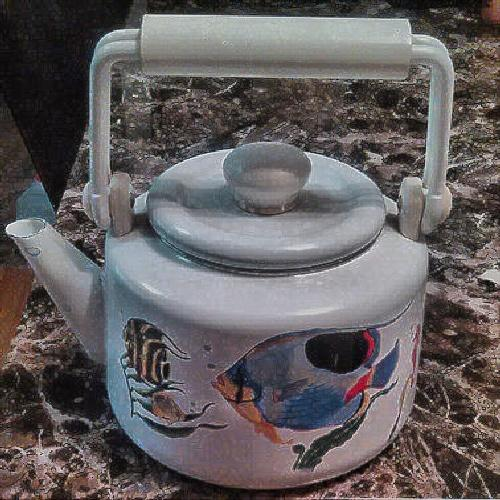kettle: (30, 32, 474, 477)
